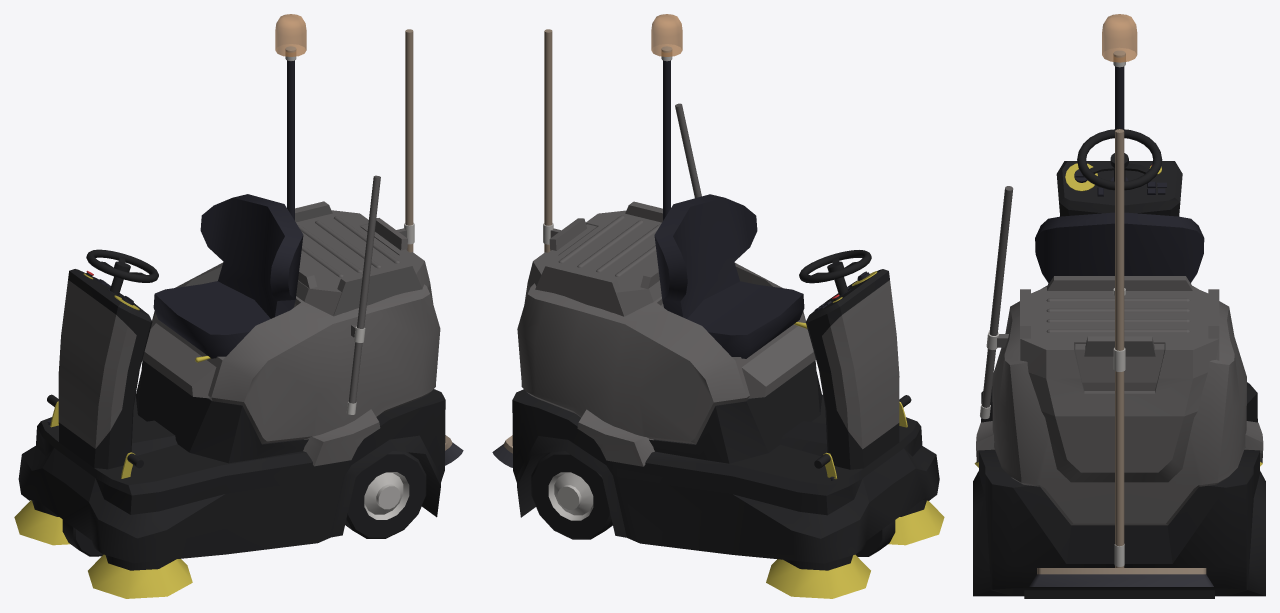
The model's file is floor-sweeper_draft.glb.
3 renders of one model, left to right at view 1: azimuth 30°, elevation 25°; view 2: azimuth 150°, elevation 25°; view 3: azimuth 270°, elevation 25°, orthographic. The views are drawn at different scales.
Visible parts, largest first — view 1: Line041, Object046_grey 2_0, Object045_grey 2_0, Plane012, Object047_03 - Default_0, Circle005, Plane013, Box158, Object045_03 - Default_0, Cylinder224, Box157, Box159 (+7 smaller); view 2: Line041, Object046_grey 2_0, Object045_grey 2_0, Plane012, Object047_03 - Default_0, Circle005, Plane013, Box158, Object045_03 - Default_0, Cylinder224, Box159, Box157 (+8 smaller); view 3: Line041, Box158, Object046_grey 2_0, Plane012, Object045_03 - Default_0, Cylinder220, Box162, Cylinder222, Box160, Cylinder217, Torus003, Box164 (+11 smaller).
Boxes of the visible parts, bbox=[...] form: Line041: bbox=[18, 389, 445, 563]; Object046_grey 2_0: bbox=[150, 262, 440, 443]; Object045_grey 2_0: bbox=[58, 280, 136, 448]; Plane012: bbox=[200, 194, 303, 318]; Object047_03 - Default_0: bbox=[136, 360, 308, 463]; Circle005: bbox=[62, 451, 426, 556]; Plane013: bbox=[153, 281, 270, 358]; Box158: bbox=[294, 210, 433, 316]; Object045_03 - Default_0: bbox=[58, 269, 152, 469]; Cylinder224: bbox=[14, 500, 192, 598]; Box157: bbox=[142, 323, 216, 398]; Box159: bbox=[295, 201, 422, 315]; Line041: bbox=[512, 389, 939, 563]; Object046_grey 2_0: bbox=[517, 263, 807, 444]; Object045_grey 2_0: bbox=[822, 280, 899, 449]; Plane012: bbox=[654, 194, 757, 318]; Object047_03 - Default_0: bbox=[649, 360, 822, 463]; Circle005: bbox=[531, 451, 895, 556]; Plane013: bbox=[687, 281, 804, 358]; Box158: bbox=[524, 210, 663, 316]; Object045_03 - Default_0: bbox=[805, 269, 899, 469]; Cylinder224: bbox=[766, 500, 944, 598]; Box159: bbox=[535, 201, 662, 315]; Box157: bbox=[741, 326, 815, 398]; Line041: bbox=[973, 382, 1265, 596]; Box158: bbox=[1020, 287, 1218, 482]; Object046_grey 2_0: bbox=[992, 285, 1246, 525]; Plane012: bbox=[1035, 212, 1204, 283]; Object045_03 - Default_0: bbox=[1056, 161, 1182, 216]; Cylinder220: bbox=[1115, 129, 1124, 567]; Box162: bbox=[1075, 344, 1164, 390]; Cylinder222: bbox=[1029, 574, 1213, 586]; Box160: bbox=[1047, 276, 1192, 290]; Cylinder217: bbox=[982, 186, 1013, 407]; Torus003: bbox=[1077, 129, 1162, 190]; Box164: bbox=[1024, 590, 1214, 598].
Bounding box in the file's own units: 1900 × 2395 × 1155.
